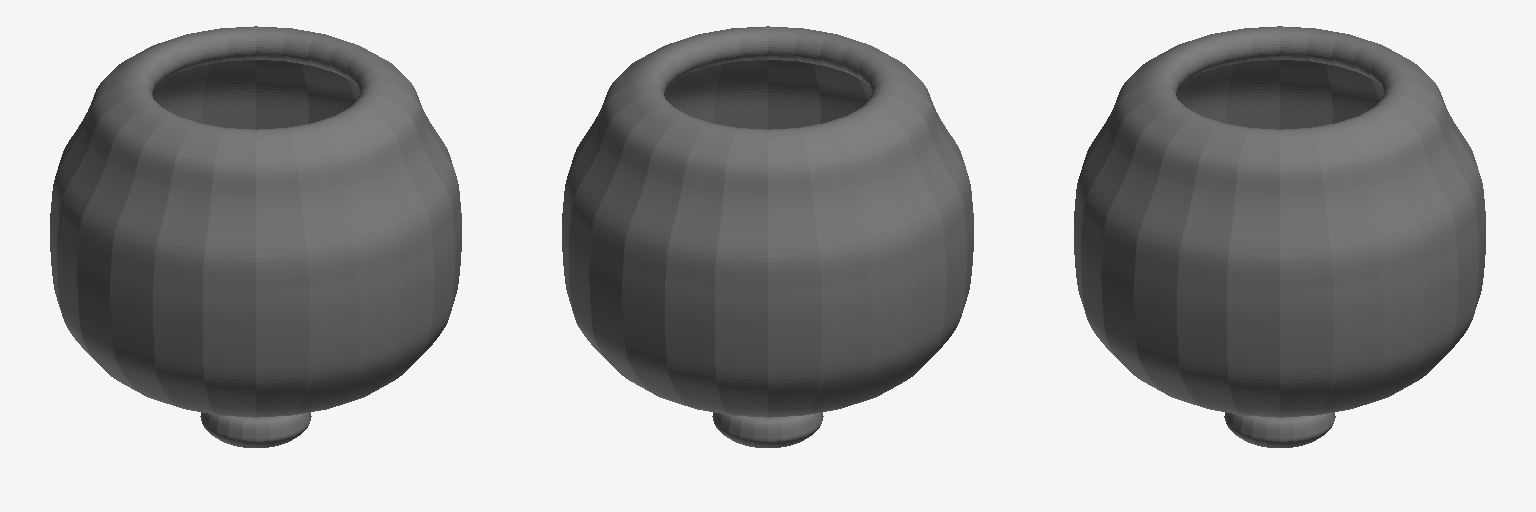
The model's file is CompletedFishBowl.obj.
3 renders of one model, left to right at view 1: azimuth 30°, elevation 25°; view 2: azimuth 150°, elevation 25°; view 3: azimuth 270°, elevation 25°, orthographic.
Parts seen in each view (by area): view 1: revolvedSurface1; view 2: revolvedSurface1; view 3: revolvedSurface1.
Part boxes in pixels (x1,y1,x2,y2): revolvedSurface1: (50,26,461,447); revolvedSurface1: (562,26,973,447); revolvedSurface1: (1074,26,1485,447).
Size of the model in its own units: 8.37 by 7.85 by 8.37.